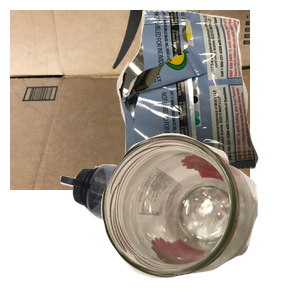cardboard: (10, 10, 250, 190)
glass: (98, 131, 300, 300)
plastic: (58, 162, 261, 300)
trash: (114, 10, 300, 180)
